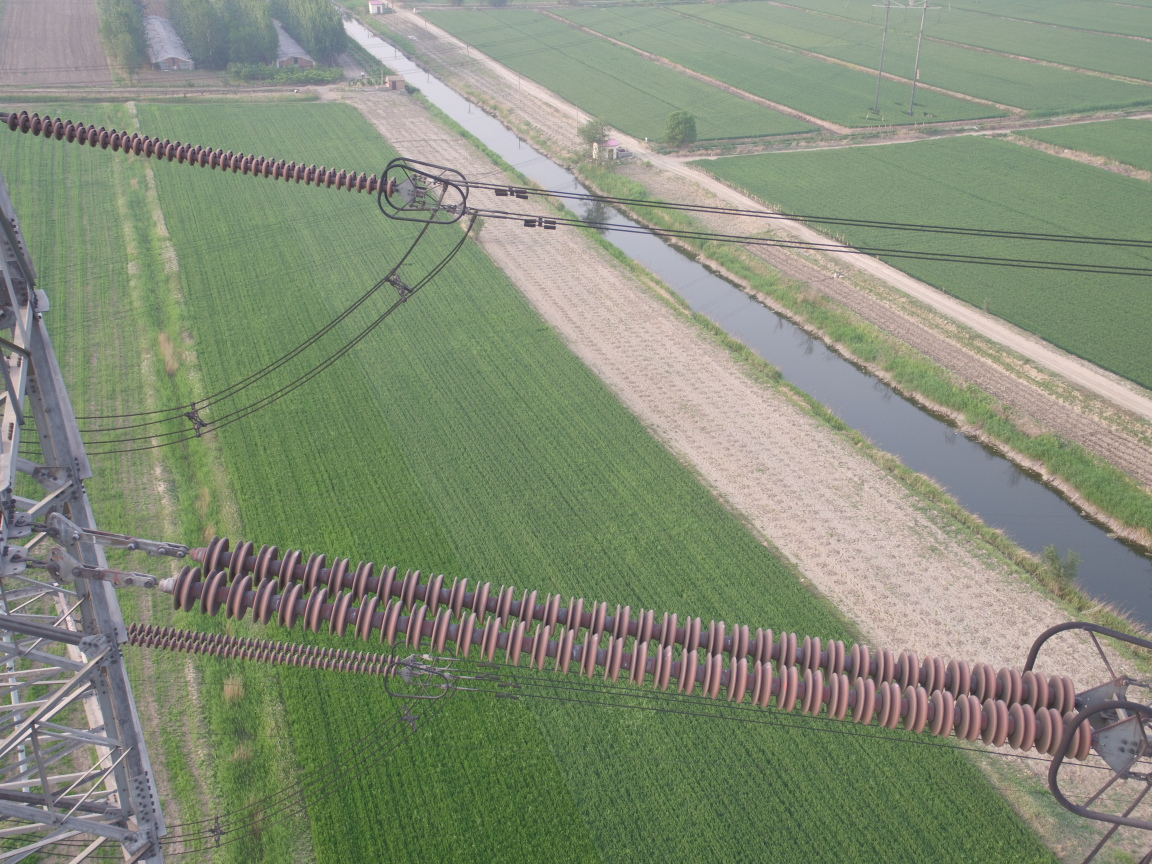insulator: (129, 521, 1108, 762), (1, 105, 403, 201), (118, 621, 406, 681)
